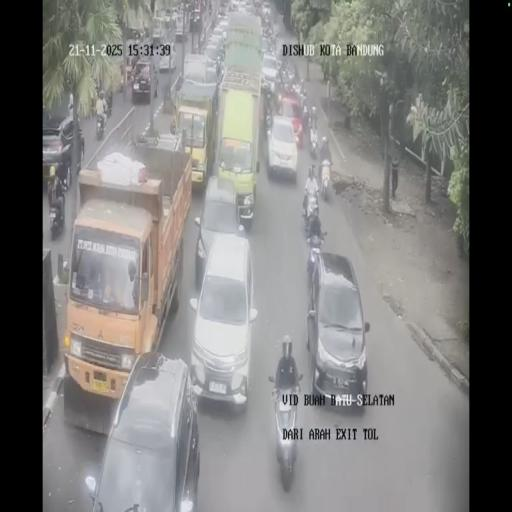car: (308, 250, 370, 406), (194, 172, 245, 283), (172, 103, 212, 192), (42, 114, 84, 189), (266, 115, 298, 184), (180, 54, 216, 100), (131, 61, 152, 103), (260, 52, 278, 92), (158, 42, 176, 73), (205, 32, 224, 61), (215, 11, 230, 34), (152, 16, 164, 43), (125, 24, 143, 41), (260, 36, 271, 58), (239, 0, 251, 13), (164, 8, 172, 24), (262, 1, 270, 16)
motorcycle: (271, 378, 301, 486), (302, 196, 324, 242), (49, 186, 65, 239), (288, 73, 306, 109), (276, 58, 293, 92), (321, 163, 331, 199), (96, 108, 107, 140), (309, 128, 318, 158), (301, 105, 309, 135), (104, 92, 112, 117), (309, 104, 317, 128), (208, 0, 212, 15)
truck: (64, 138, 190, 415), (220, 9, 262, 90), (172, 9, 187, 41), (189, 1, 203, 31)
